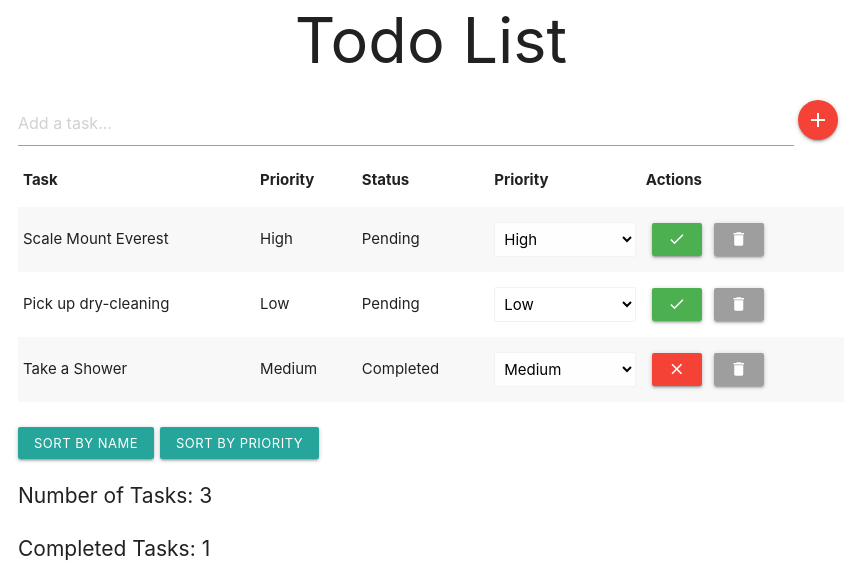
Test case: App › should display the correct number of completed tasks when tasks are updated
The width and height of the screenshot is (857, 577).
Step 1. Click the button with id "set-complete" → [677, 240], box [652,223,702,256]
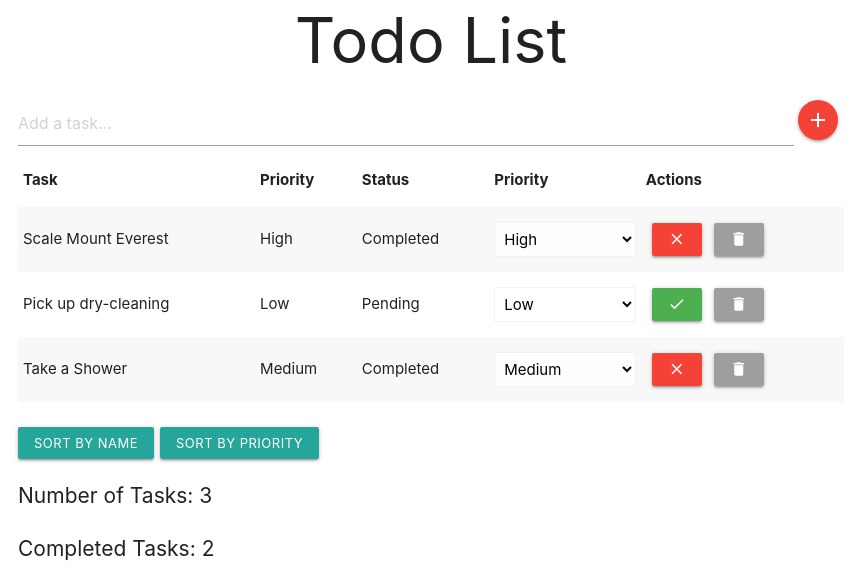
Expected: the text "Number of Tasks: 3" is shown, [18,483,212,508]
Expected: the text "Completed Tasks: 2" is shown, [18,536,214,561]
